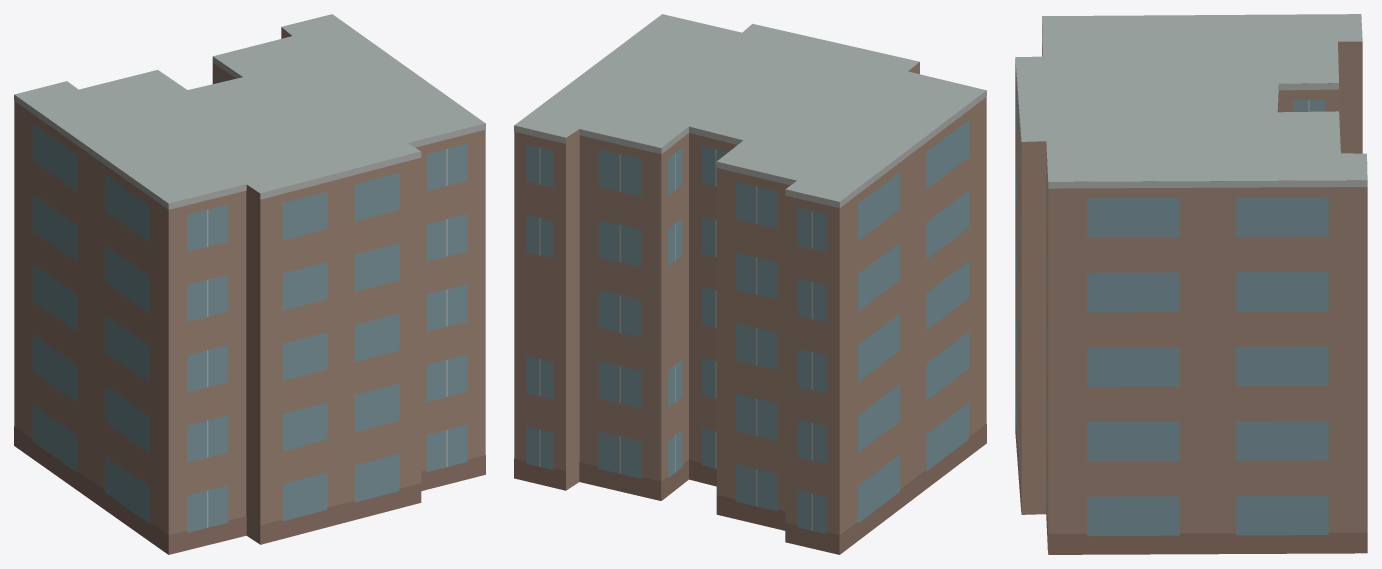
The model's file is survey-upis-32840873.glb.
3 views of the same model, side by side, from view 1: azimuth 30°, elevation 25°; view 2: azimuth 150°, elevation 25°; view 3: azimuth 270°, elevation 25° (orthographic). The views are drawn at different scales.
Visible parts, largest first — view 1: survey-upis-32840873.tmp; view 2: survey-upis-32840873.tmp; view 3: survey-upis-32840873.tmp.
Boxes of the visible parts, bbox=[...] form: survey-upis-32840873.tmp: bbox=[14, 14, 485, 554]; survey-upis-32840873.tmp: bbox=[514, 14, 986, 554]; survey-upis-32840873.tmp: bbox=[1015, 14, 1367, 554].
Size of the model in its own units: 13.29 by 13.75 by 11.78.
